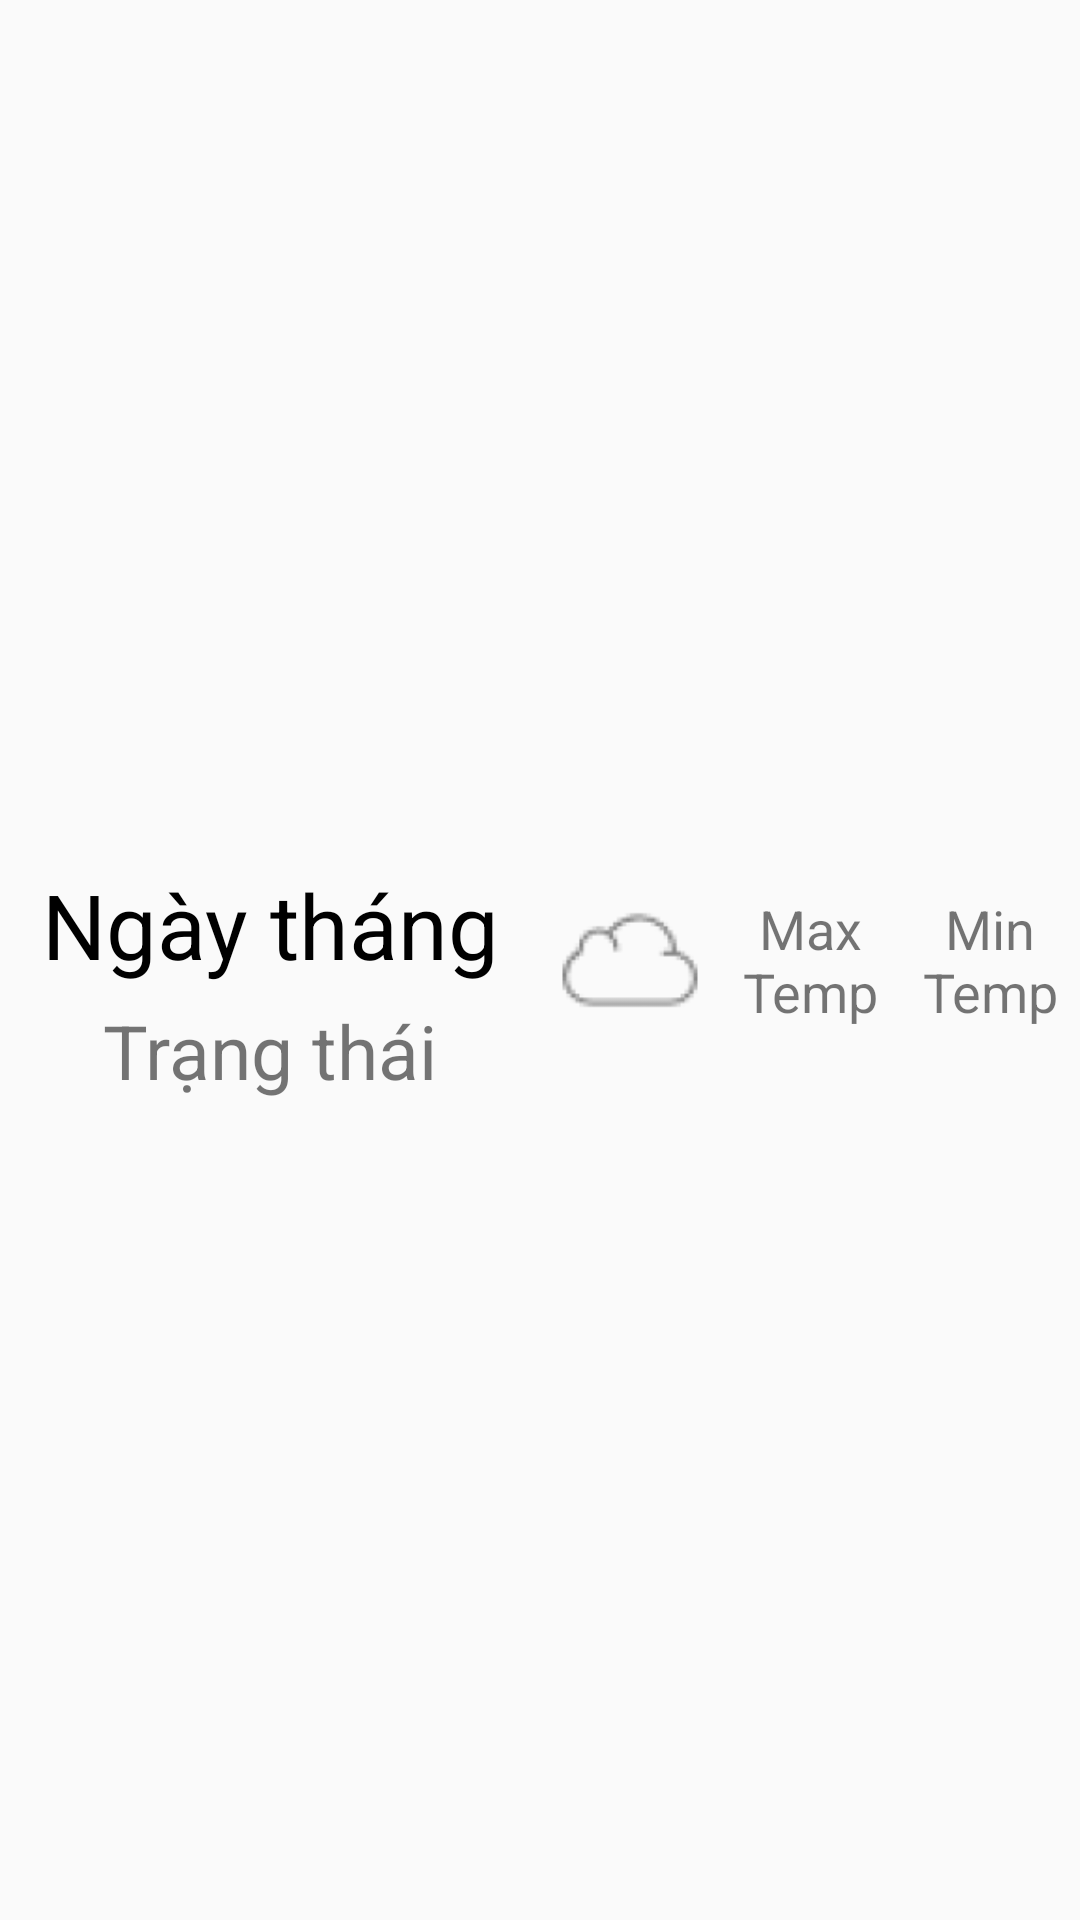

Named icons in this screenshot (1080*1920) and their bounding boxes, bbox=(x1, y1, x2, y2):
cloud: bbox=(562, 913, 698, 1007)
